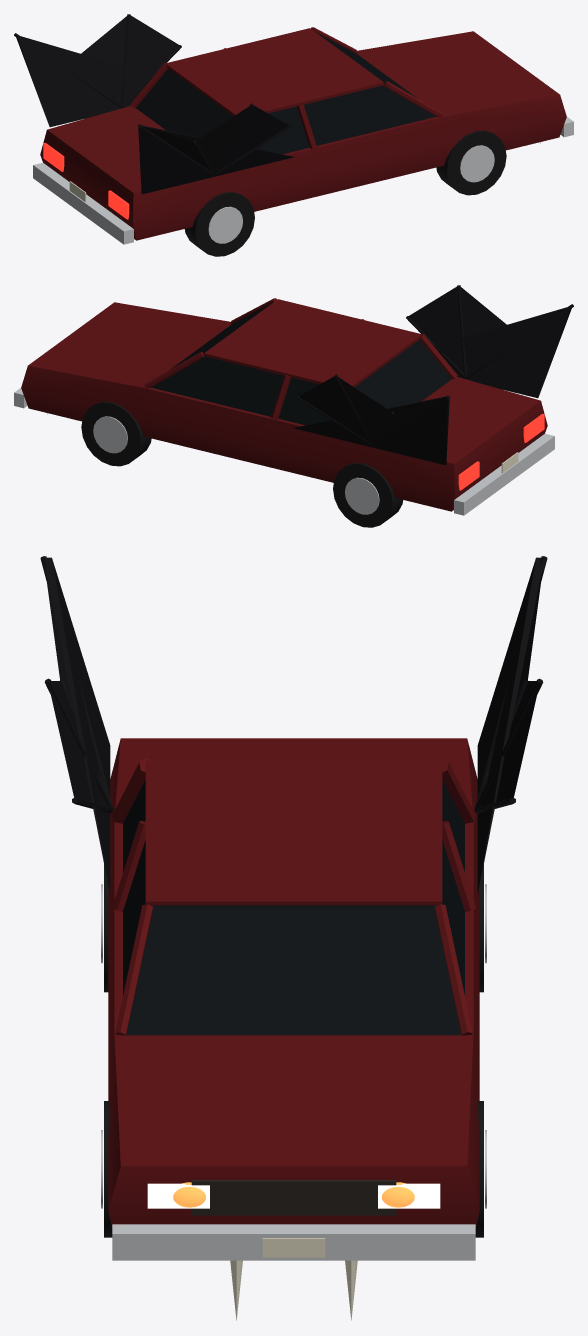
File: SM_80s_Car_BatSedan.glb
3 renders of one model, top to bottom at view 1: azimuth 30°, elevation 25°; view 2: azimuth 150°, elevation 25°; view 3: azimuth 270°, elevation 25°, orthographic. The views are drawn at different scales.
Parts seen in each view (by area): view 1: SM_80s_Car_BatSedan; view 2: SM_80s_Car_BatSedan; view 3: SM_80s_Car_BatSedan.
Part boxes in pixels (x1,y1,x2,y2): SM_80s_Car_BatSedan: (14, 14, 573, 256); SM_80s_Car_BatSedan: (14, 285, 573, 527); SM_80s_Car_BatSedan: (40, 556, 547, 1320).
Size of the model in its own units: 5.01 by 1.76 by 2.43.
